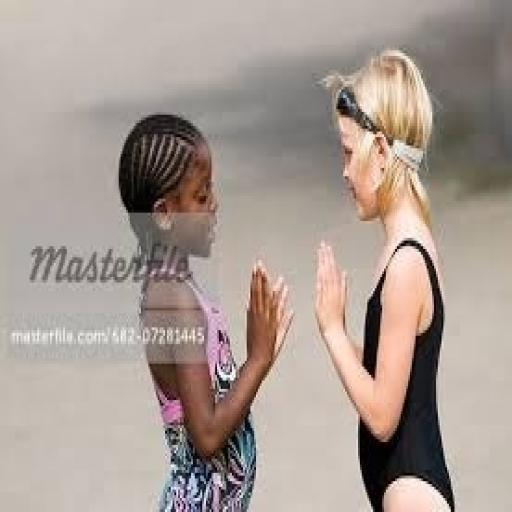clapping: (115, 109, 295, 509), (312, 45, 456, 509)
